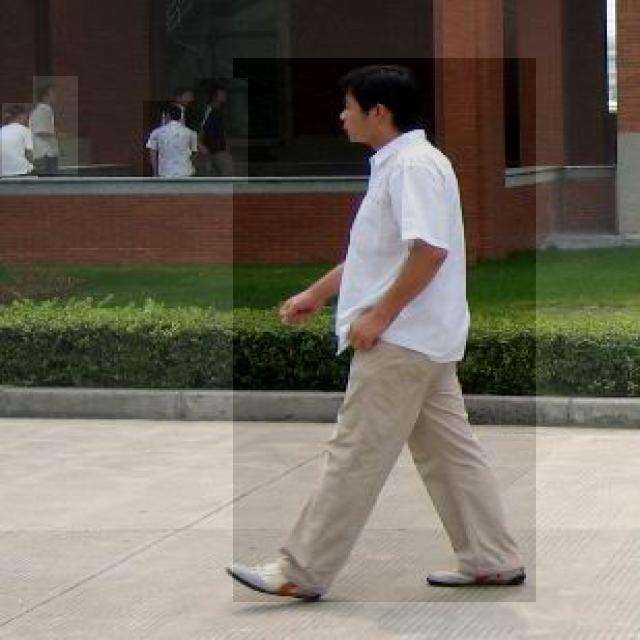with scooter: (233, 58, 536, 602), (194, 78, 248, 184), (144, 101, 212, 183), (33, 76, 78, 175), (2, 104, 38, 182)
